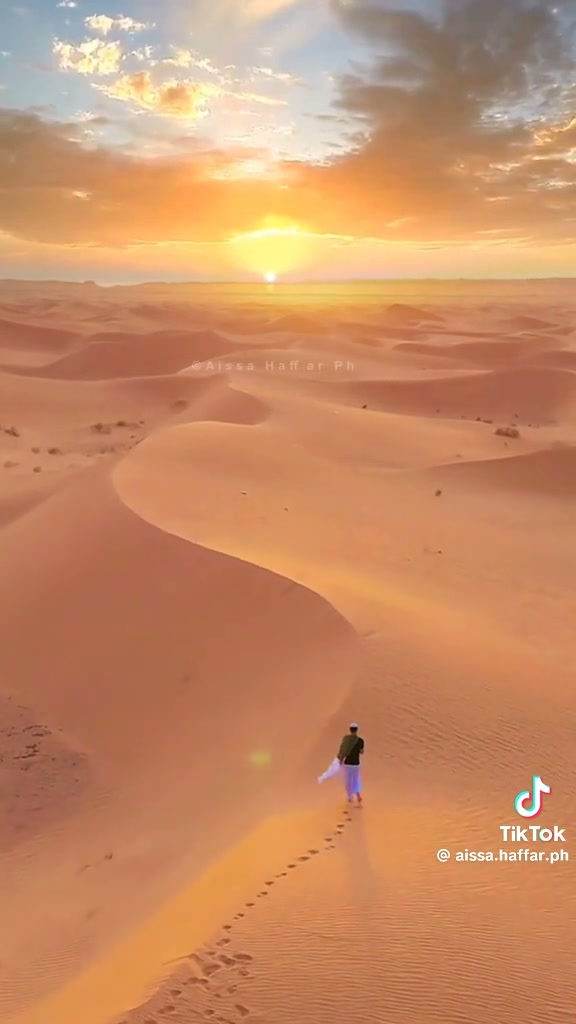human_footprint: (130, 848, 321, 1023)
